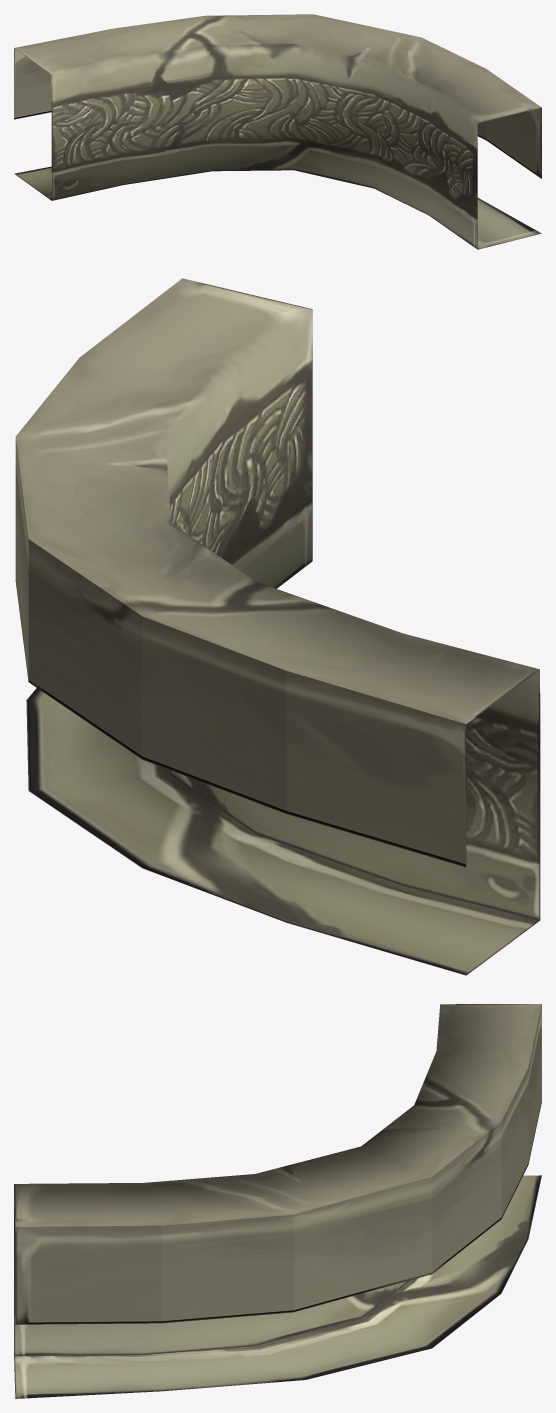
The model's file is wall_concave1_top.fbx.
The picture shows the model from 3 angles, top to bottom: view 1: azimuth 30°, elevation 25°; view 2: azimuth 150°, elevation 25°; view 3: azimuth 270°, elevation 25°; orthographic projection. The views are drawn at different scales.
Visible parts, largest first — view 1: convex2_v_cap; view 2: convex2_v_cap; view 3: convex2_v_cap.
Part boxes in pixels (x1=…): convex2_v_cap: x1=14, y1=14, x2=541, y2=249; convex2_v_cap: x1=15, y1=278, x2=540, y2=975; convex2_v_cap: x1=14, y1=1004, x2=541, y2=1398.
Bounding box in the file's own units: 2 × 0.7199 × 2.
